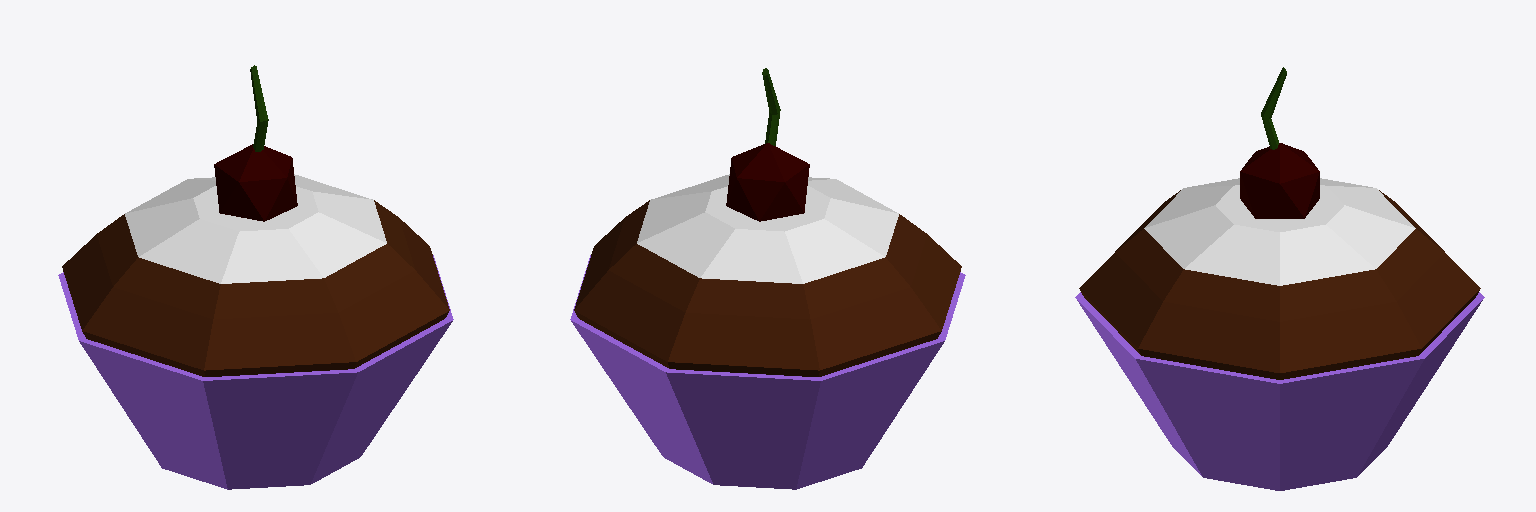
Rendered from Cupcake.obj.
The picture shows the model from 3 angles: view 1: azimuth 30°, elevation 25°; view 2: azimuth 150°, elevation 25°; view 3: azimuth 270°, elevation 25°; orthographic projection.
Parts seen in each view (by area): view 1: Cupcake_Circle; view 2: Cupcake_Circle; view 3: Cupcake_Circle.
Boxes of the visible parts, box(x1,y1,x2,y2) form: Cupcake_Circle: box(58, 65, 453, 489); Cupcake_Circle: box(570, 68, 965, 489); Cupcake_Circle: box(1075, 67, 1484, 490).
Bounding box in the file's own units: 0.4861 × 0.4963 × 0.4861.